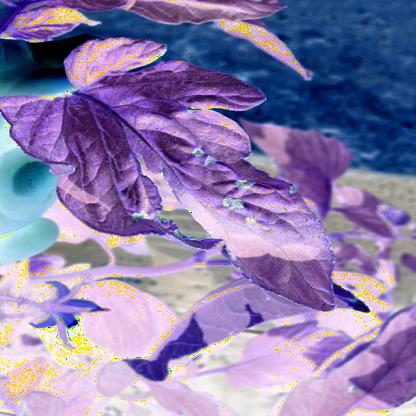Tomato leaf bacterial spot: (12, 34, 337, 318)
